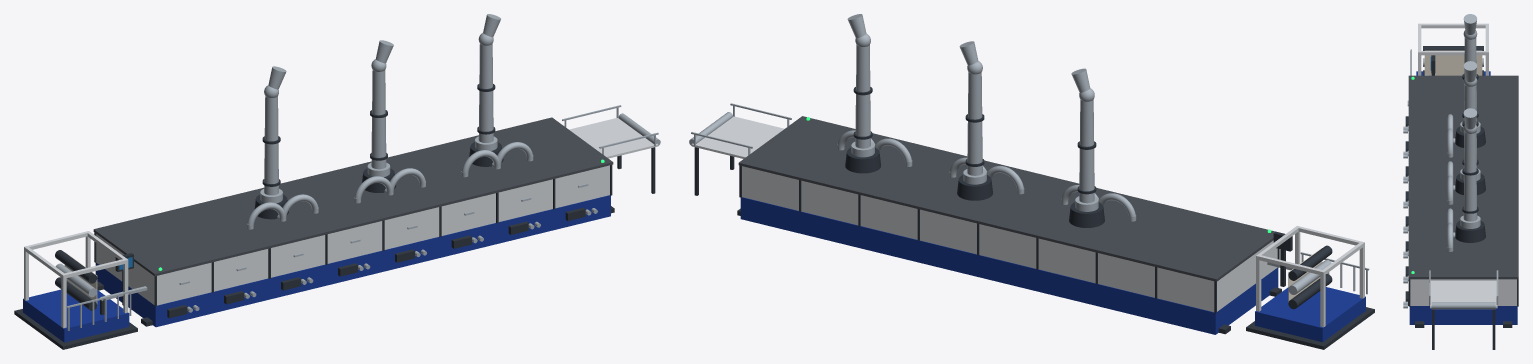
File: ramoz.glb
3 renders of one model, left to right at view 1: azimuth 30°, elevation 25°; view 2: azimuth 150°, elevation 25°; view 3: azimuth 270°, elevation 25°, orthographic. The views are drawn at different scales.
Visible parts, largest first — view 1: Asset; view 2: Asset; view 3: Asset.
Part boxes in pixels (x1,y1,x2,y2): Asset: (14,14,660,349); Asset: (689,14,1374,349); Asset: (1403,14,1518,349).
Bounding box in the file's own units: 18.75 × 5.8 × 3.42.
